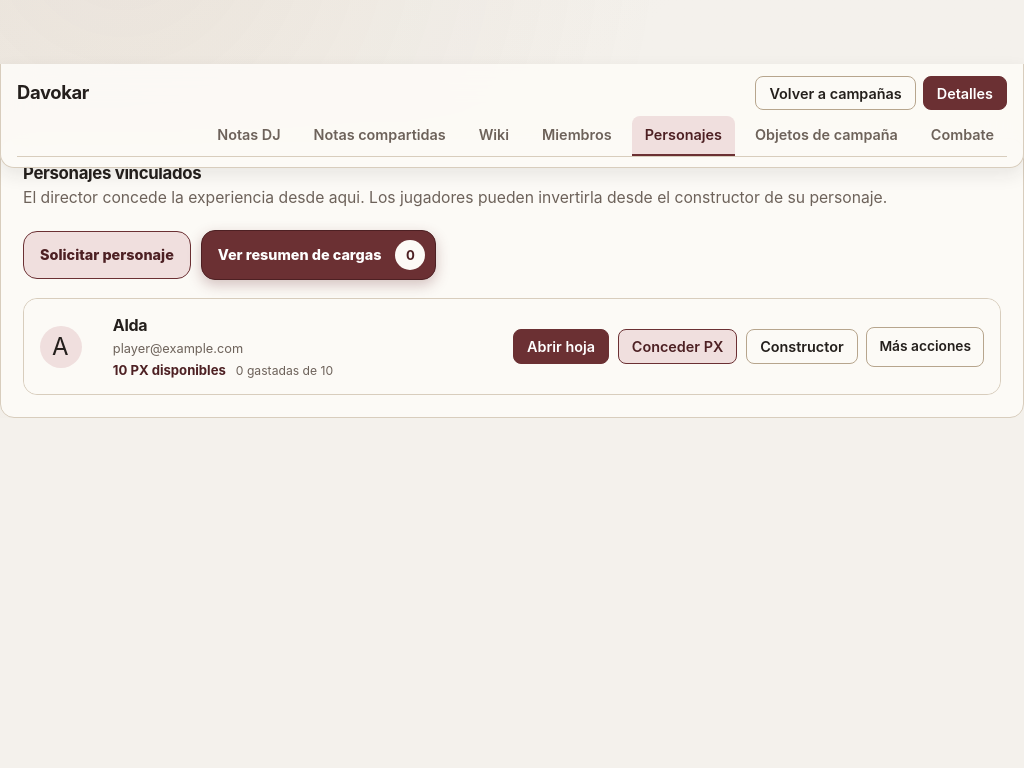
Test case: CampaignDashboardView experience grants › requests consent from an available character owner from the header modal
Expected: the heading "Personajes vinculados" is shown, [23,163,201,183]
Click the button "Solicitar personaje".
click(107, 255)  # box [23,231,191,279]
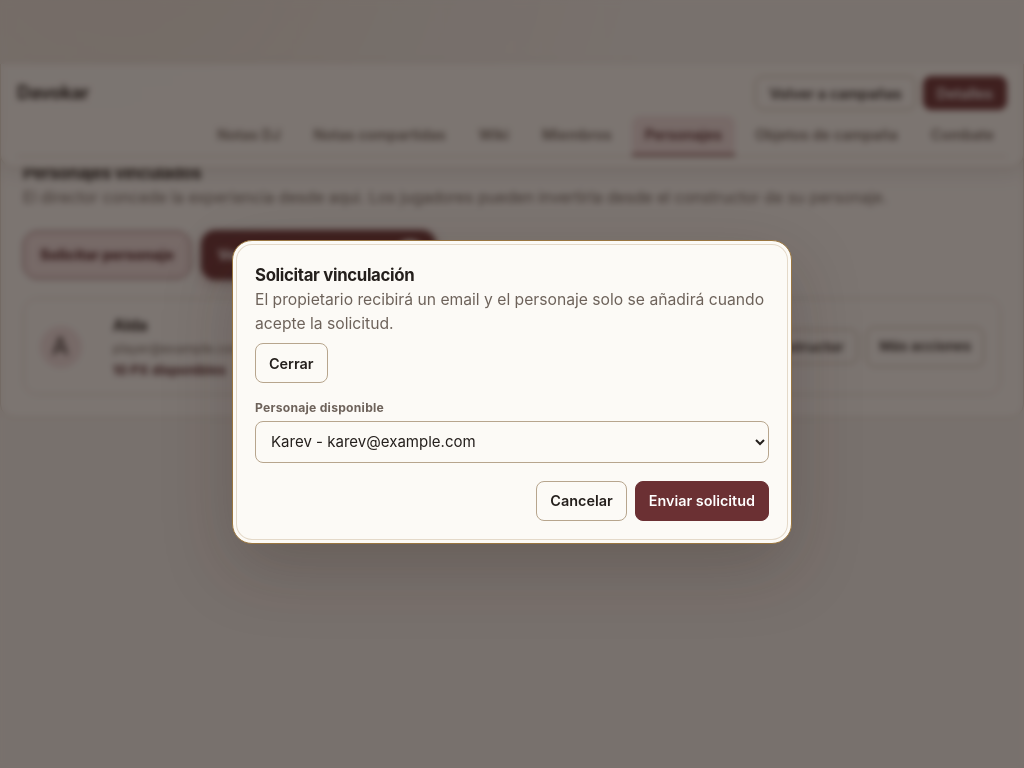
Expected: the dropdown labelled "Personaje disponible" shows "Karev - karev@example.com", [255,421,769,463]
Click the button "Enviar solicitud".
click(702, 501)  # box [635,481,769,521]
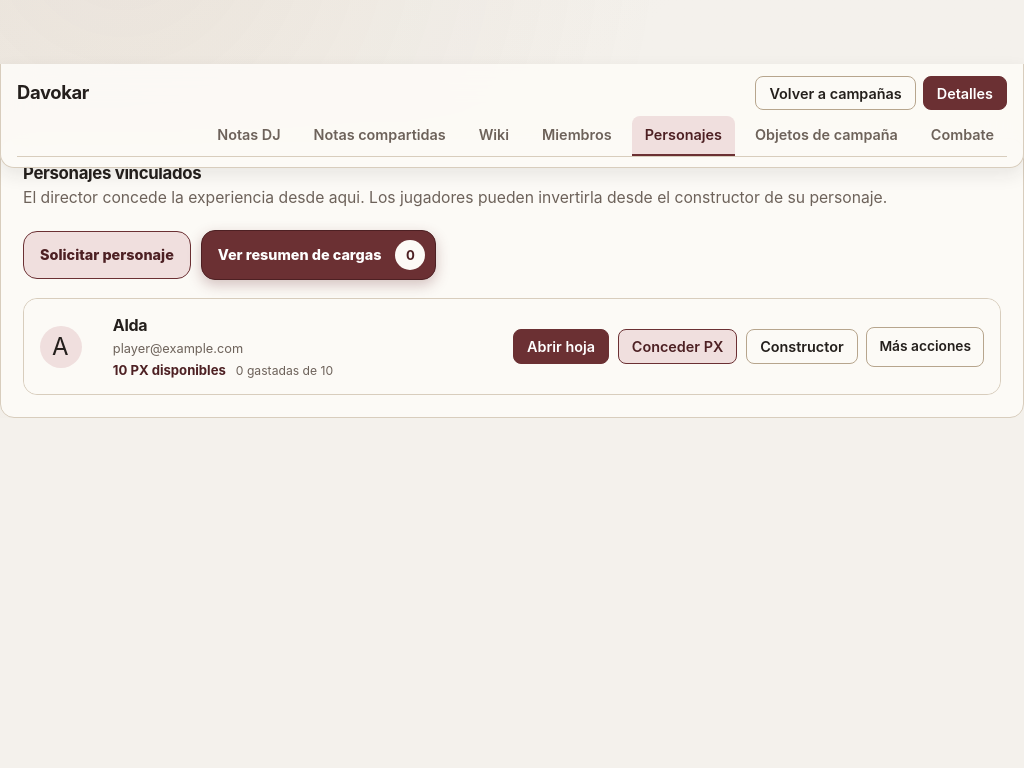
Expected: the heading "Solicitar vinculación" is gone
